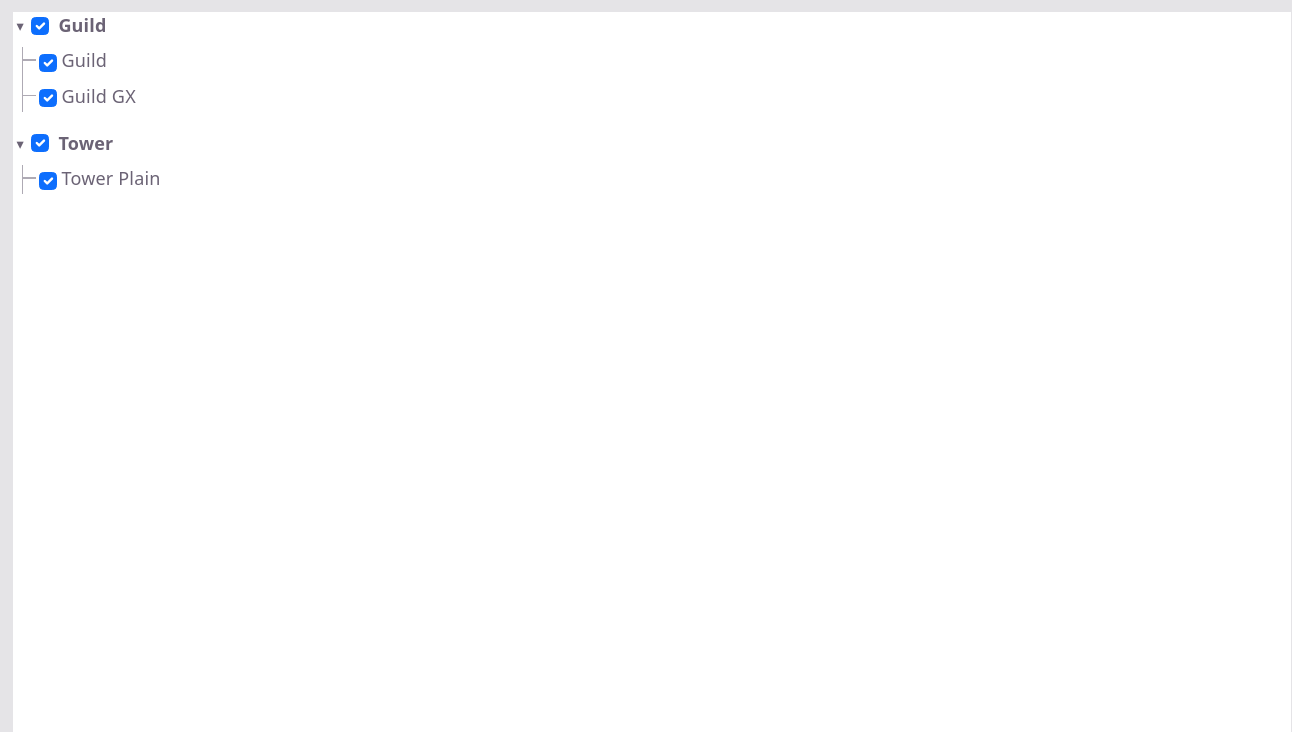
Test: CategoryFilter › collapses and expands a group's leaves without affecting its checked state
This screenshot has width=1292, height=732.
Expected: the checkbox labelled "Guild GX" is shown, x1=39 y1=89 x2=57 y2=107
Click the button named "Collapse Guild" at {"x": 20, "y": 27}, box x1=13 y1=19 x2=27 y2=34
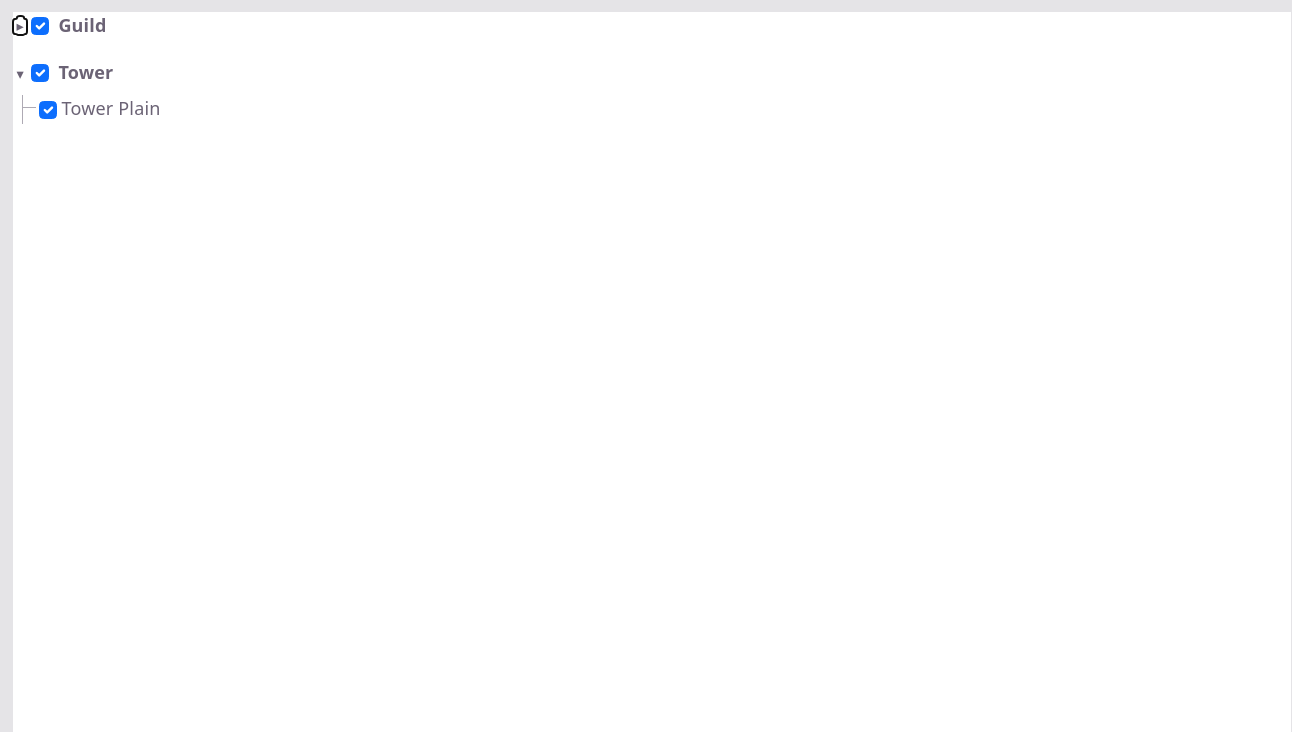
Expected: the checkbox named "Guild (all)" is checked, x1=31 y1=16 x2=49 y2=34
Expected: the label "Guild GX" is gone
Click the button named "Expand Guild" at {"x": 20, "y": 27}, box x1=13 y1=19 x2=27 y2=34
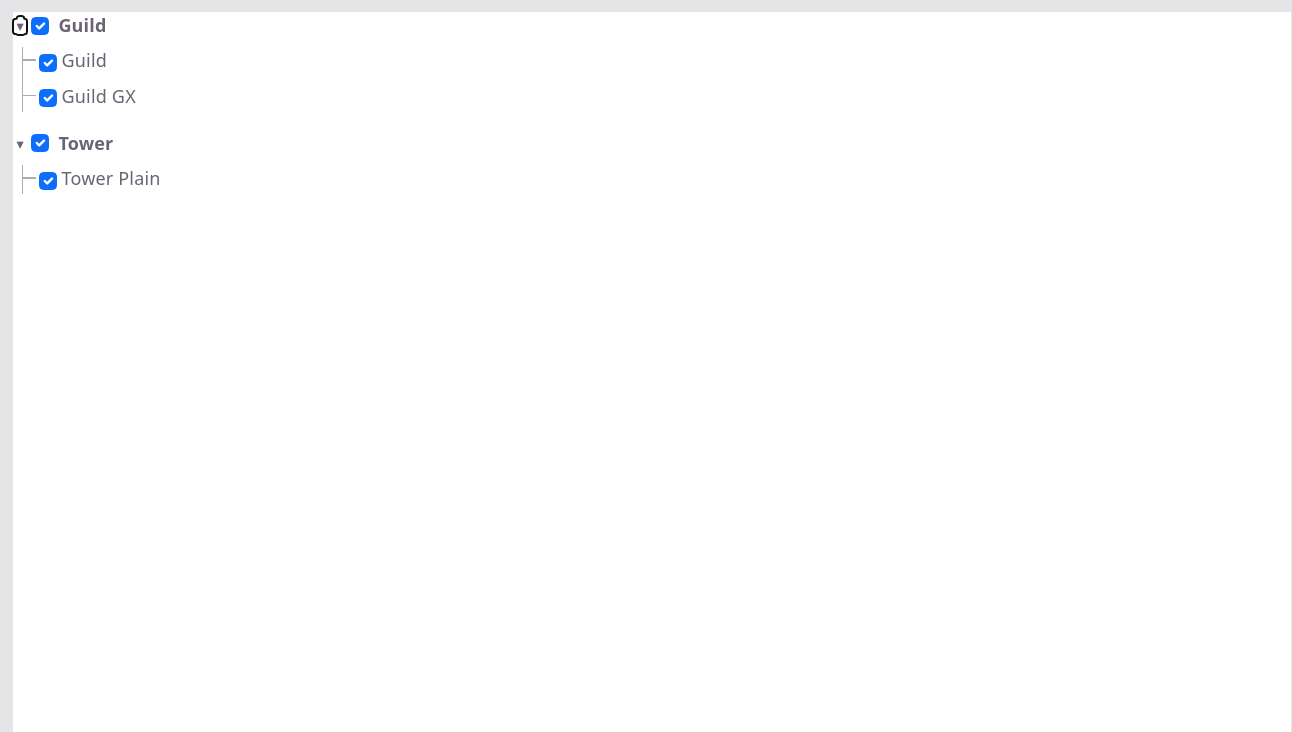
Expected: the checkbox labelled "Guild GX" is shown, x1=39 y1=89 x2=57 y2=107
